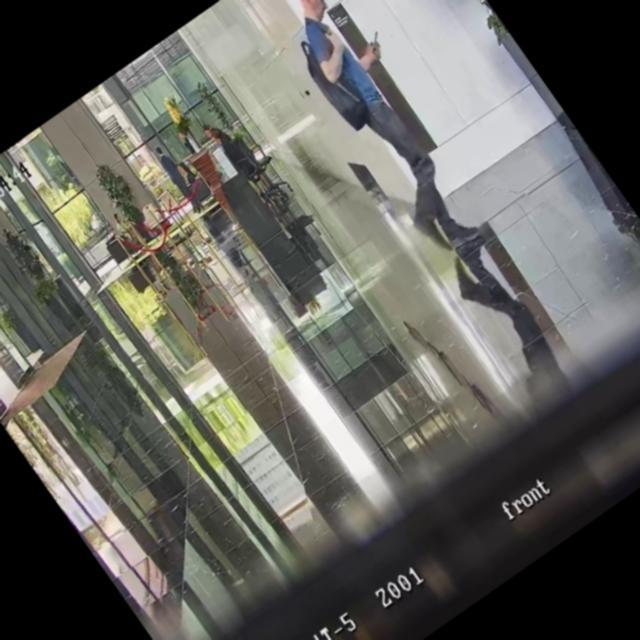person: (255, 0, 509, 275), (150, 142, 207, 215), (208, 121, 255, 180), (109, 204, 150, 252), (201, 115, 232, 149)
